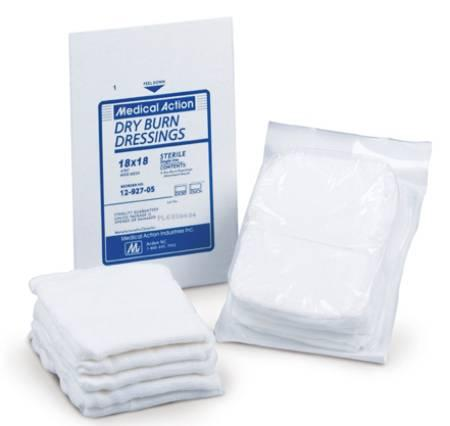bandage: (29, 264, 227, 417), (230, 154, 380, 348)
